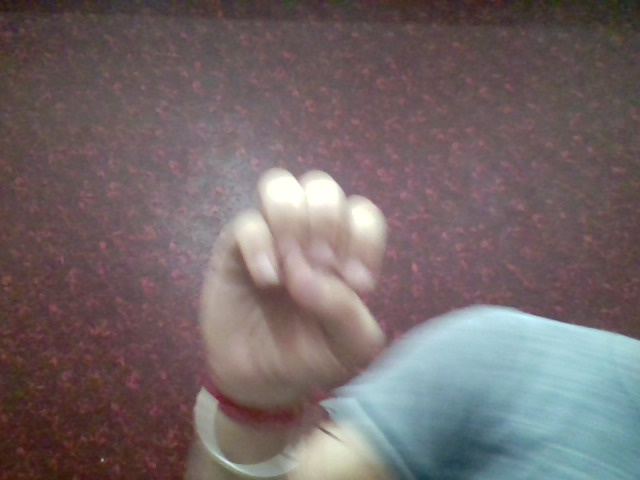e: (183, 161, 398, 388)
